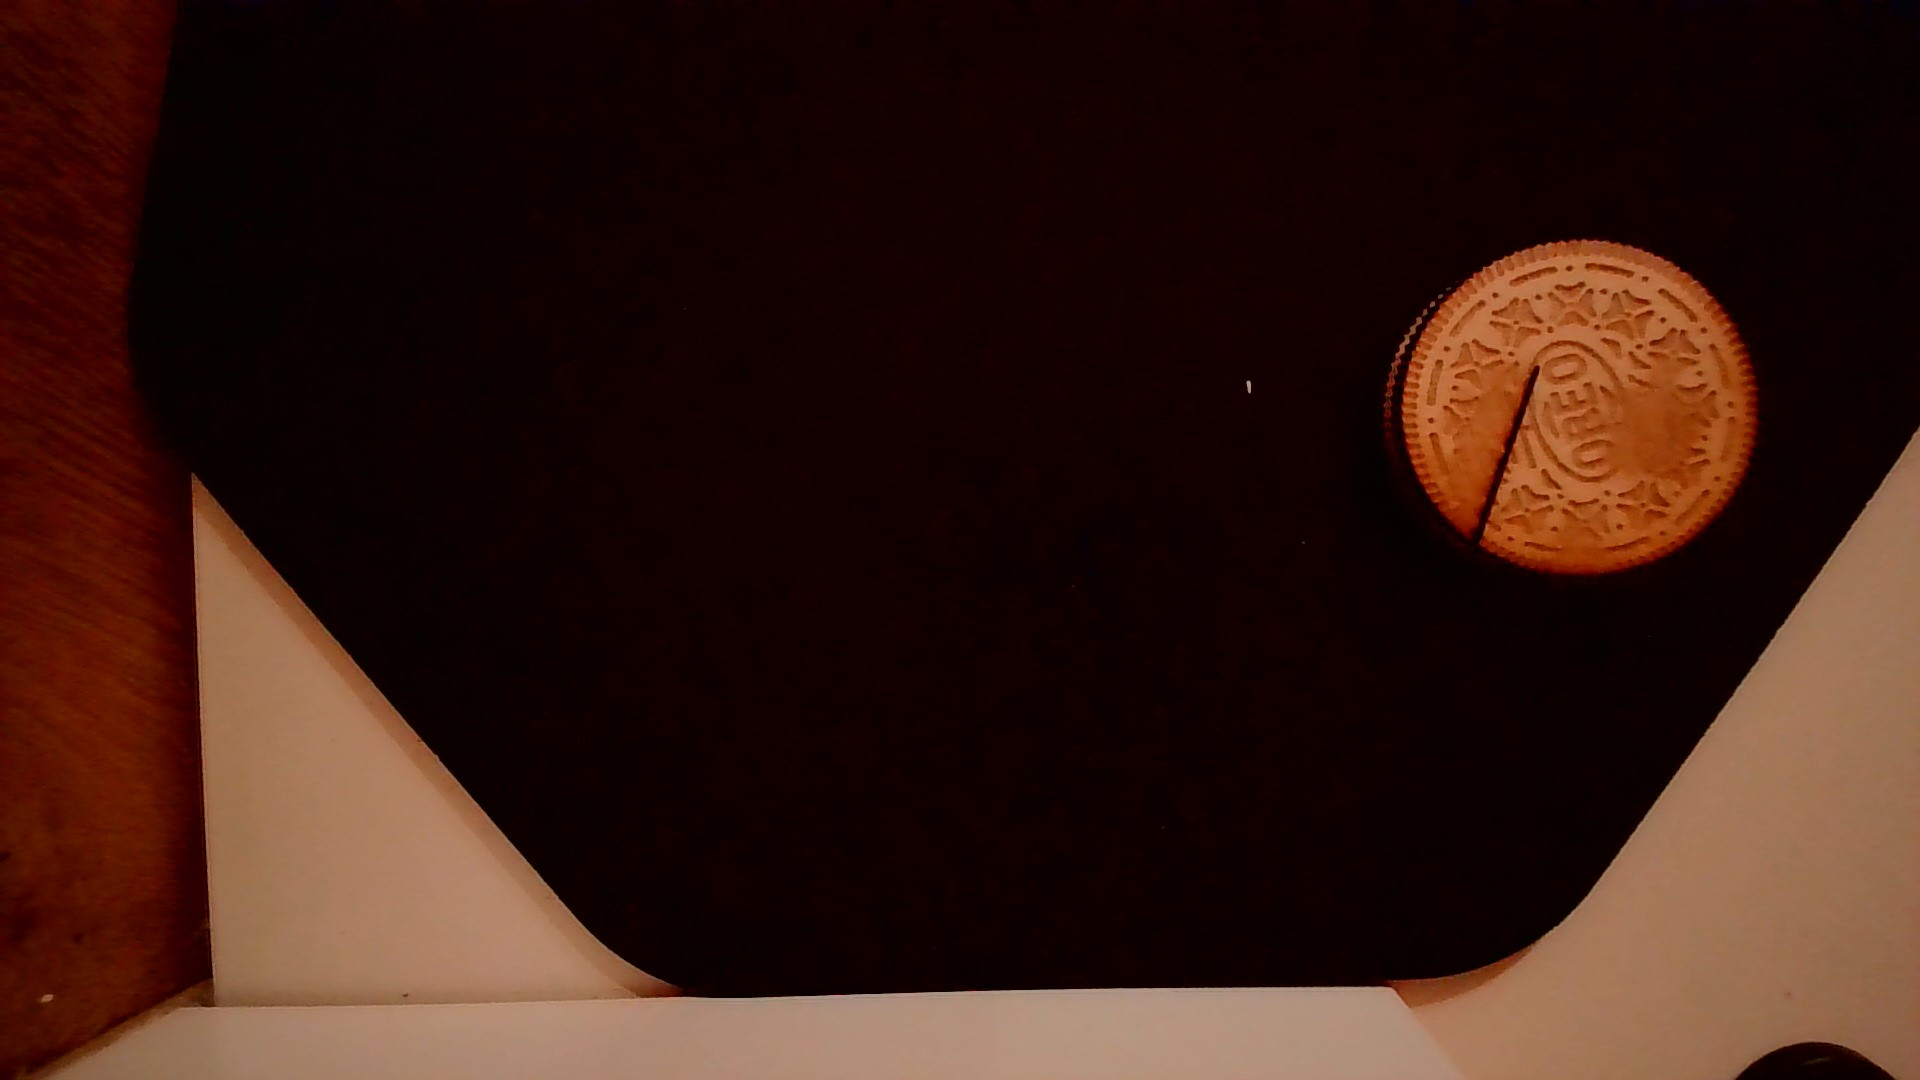Effacé: (1611, 380, 1705, 477), (1451, 357, 1495, 483), (1543, 545, 1627, 562)
Fissure: (1453, 348, 1557, 556)
Oréo: (1382, 229, 1762, 582)
